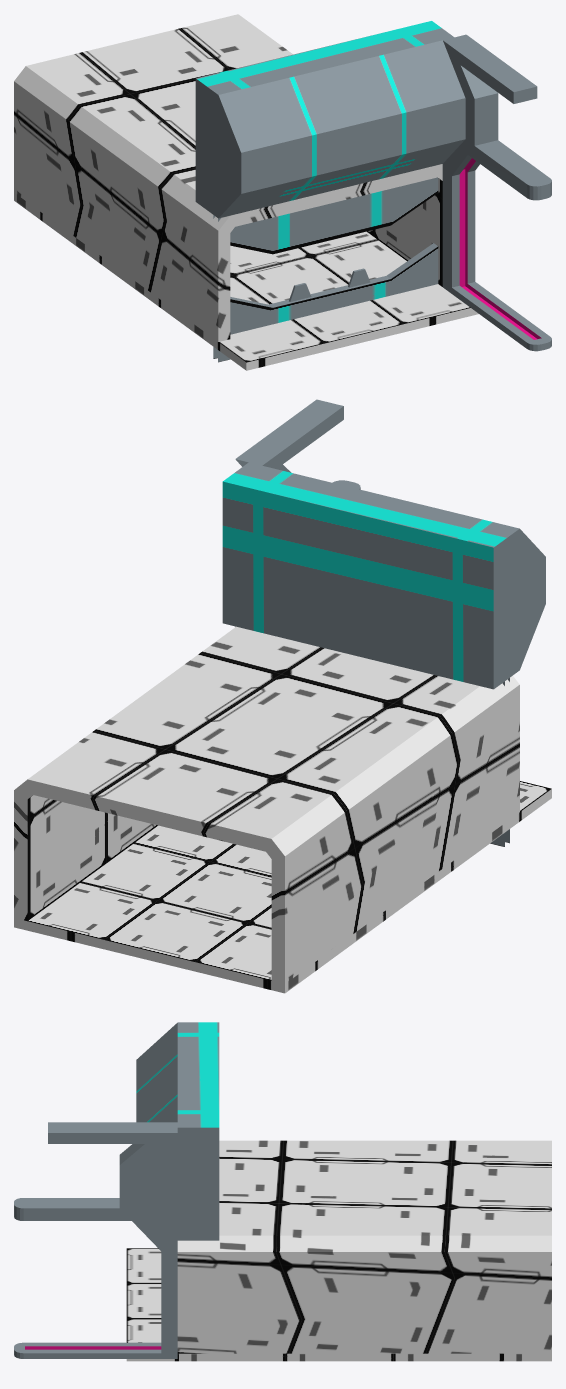
File: BackGroundLaserWall.fbx
3 views of the same model, one above another, from view 1: azimuth 30°, elevation 25°; view 2: azimuth 150°, elevation 25°; view 3: azimuth 270°, elevation 25° (orthographic). The views are drawn at different scales.
Parts seen in each view (by area): view 1: geo1; view 2: geo1; view 3: geo1.
Part boxes in pixels (<box>): geo1: <box>14,14,551,370</box>; geo1: <box>14,399,551,993</box>; geo1: <box>14,1022,551,1361</box>.
Size of the model in its own units: 6.3 by 6.6 by 12.94.
